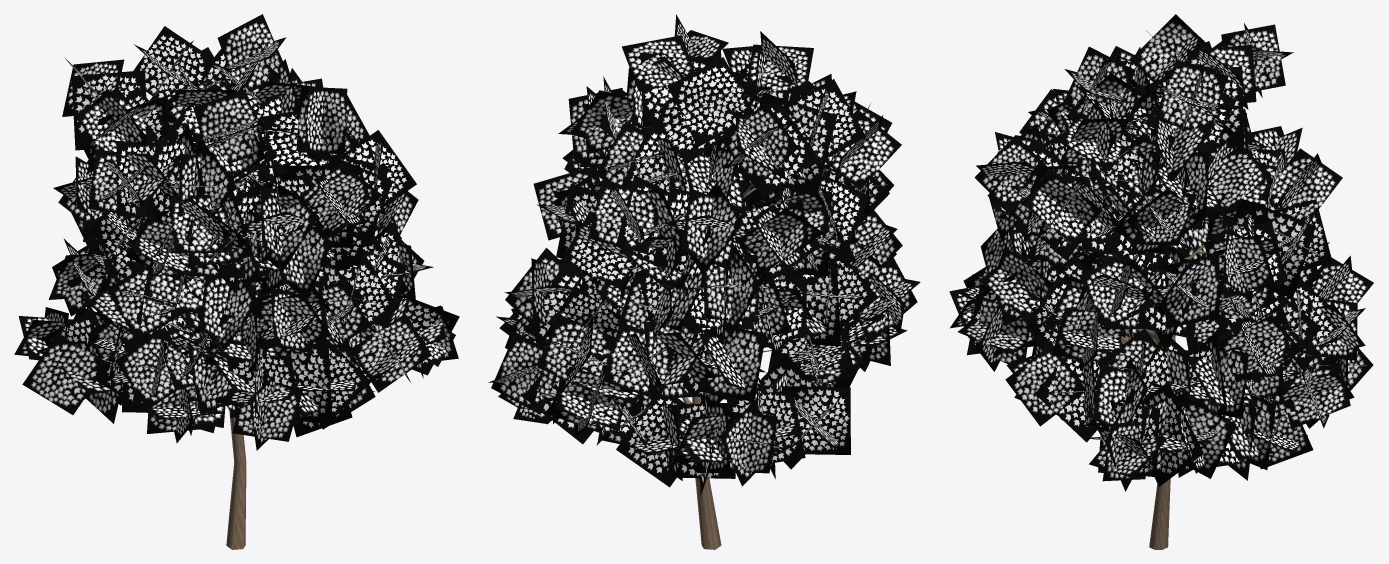
Rendered from RedMaple_LOD0_P3120_B1900_L1152_v03.fbx.
3 renders of one model, left to right at view 1: azimuth 30°, elevation 25°; view 2: azimuth 150°, elevation 25°; view 3: azimuth 270°, elevation 25°, orthographic. The views are drawn at different scales.
Parts seen in each view (by area): view 1: redmapleleafcard_1, sugar_maple_bark_v01_0; view 2: redmapleleafcard_1, sugar_maple_bark_v01_0; view 3: redmapleleafcard_1, sugar_maple_bark_v01_0.
Part boxes in pixels (<box>): redmapleleafcard_1: <box>14,14,459,450</box>; sugar_maple_bark_v01_0: <box>226,183,256,549</box>; redmapleleafcard_1: <box>488,14,920,495</box>; sugar_maple_bark_v01_0: <box>682,152,771,549</box>; redmapleleafcard_1: <box>949,14,1373,491</box>; sugar_maple_bark_v01_0: <box>1115,228,1224,549</box>.
Bounding box in the file's own units: 1247 × 1612 × 1244.
